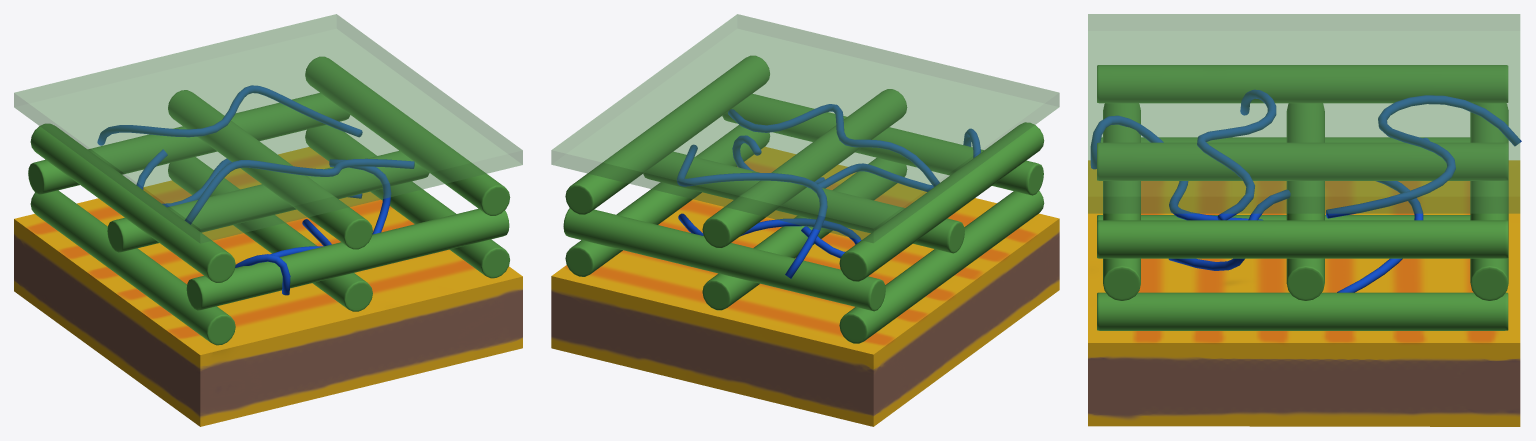
The model's file is Dinding Sel2.fbx.
3 views of the same model, side by side, from view 1: azimuth 30°, elevation 25°; view 2: azimuth 150°, elevation 25°; view 3: azimuth 270°, elevation 25° (orthographic). The views are drawn at different scales.
Parts seen in each view (by area): view 1: Cellwallsubs; view 2: Cellwallsubs; view 3: Cellwallsubs.
Part boxes in pixels (box(x1,y1,x2,y2)): Cellwallsubs: box(14, 14, 522, 426); Cellwallsubs: box(551, 14, 1059, 426); Cellwallsubs: box(1088, 14, 1521, 426).
Size of the model in its own units: 287 by 169 by 288.
